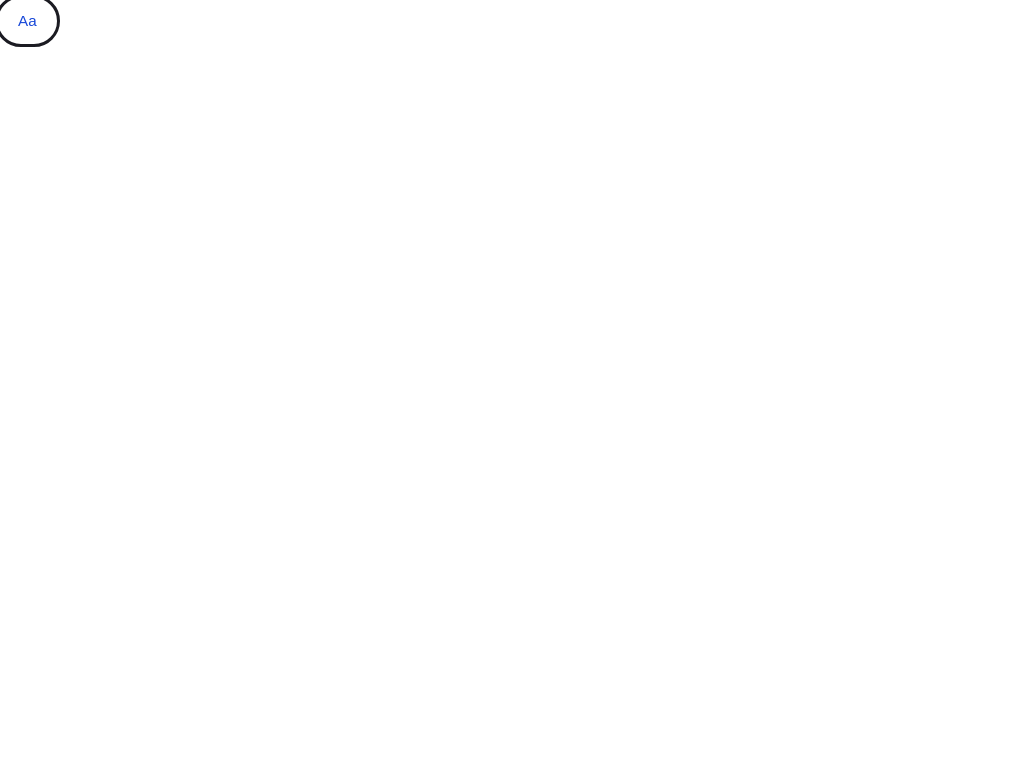
A11yWidget › opens with the keyboard, toggles settings with aria-pressed, persists and announces
The image size is (1024, 768).
Step 1. Press Enter
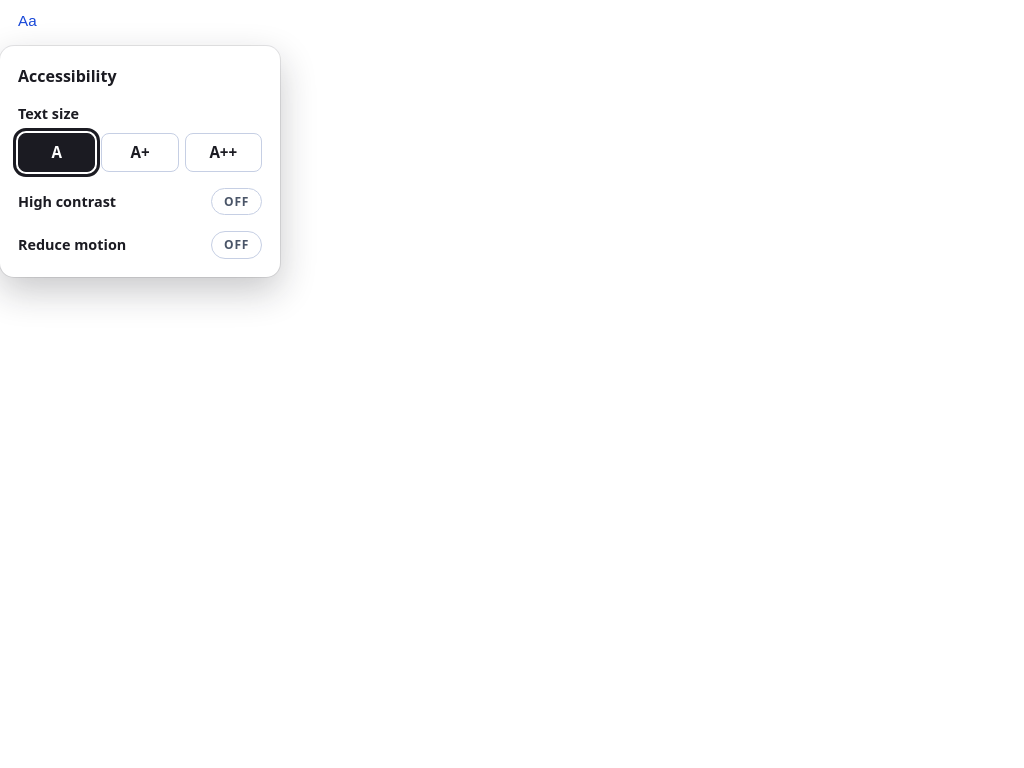
Now the text "Accessibility" is shown, box [18,65,116,87]
Step 2. Click the button "A++" → (223, 152), box [185,133,262,172]
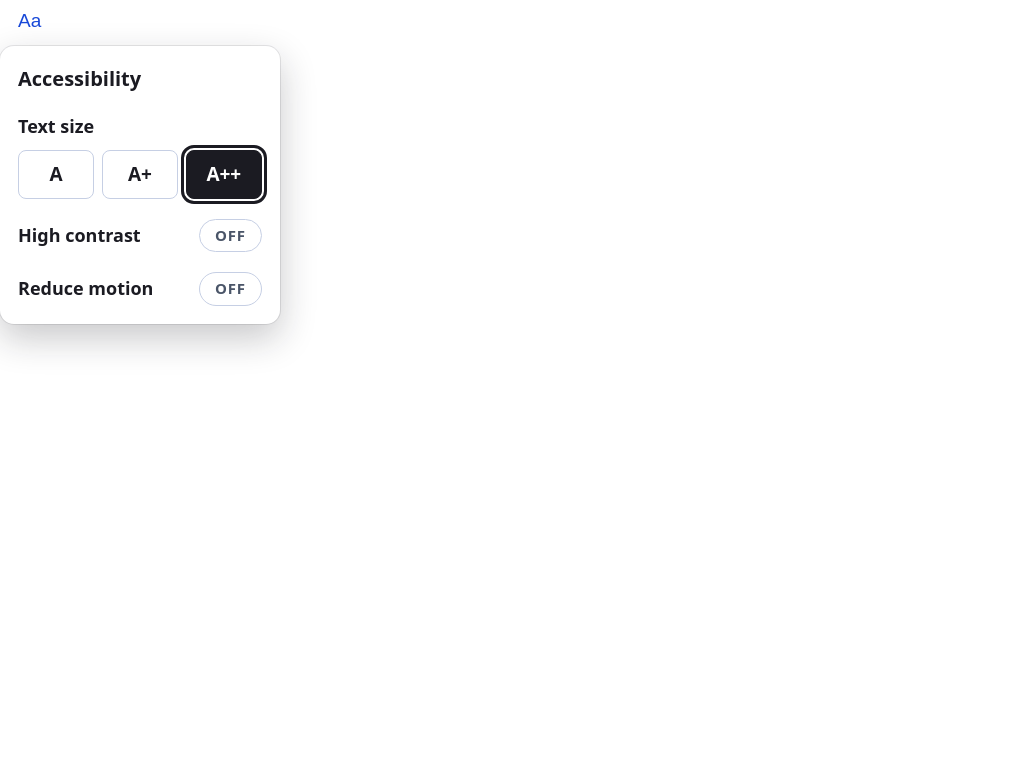
Now the button "A++" is pressed, box [186,150,262,199]
Step 3. Click the button "High contrast Off" → (140, 236), box [18,219,262,252]
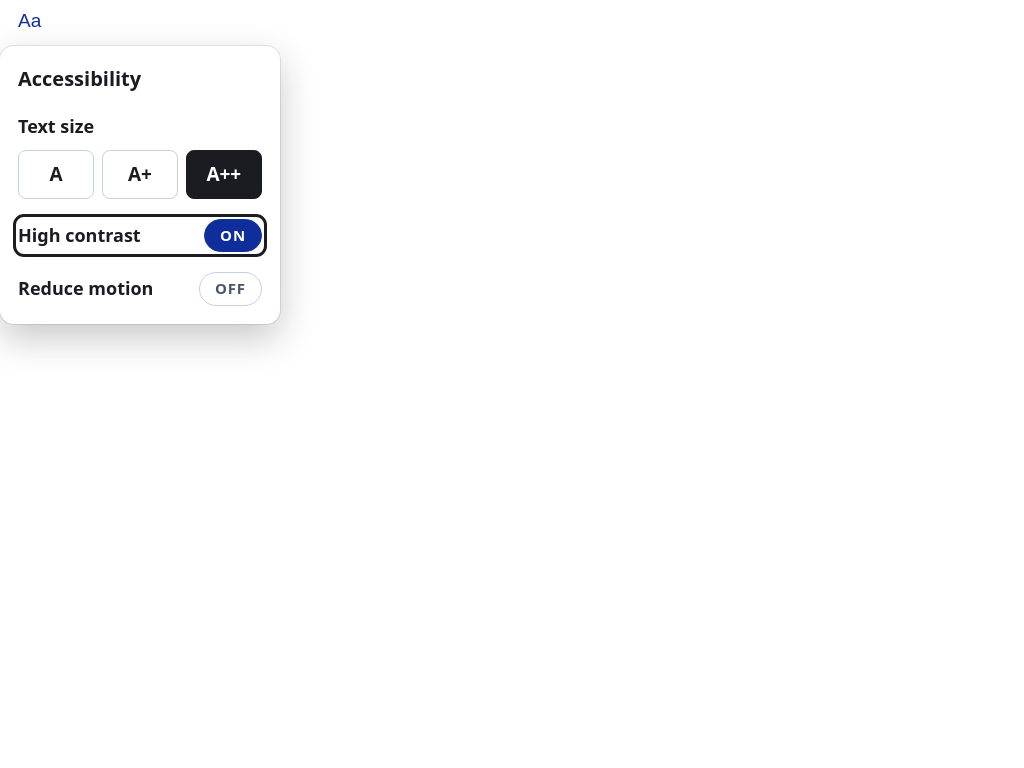
Now the button "High contrast On" is pressed, box [18,219,262,252]
Step 4. Click the button "Reduce motion Off" → (140, 289), box [18,272,262,306]
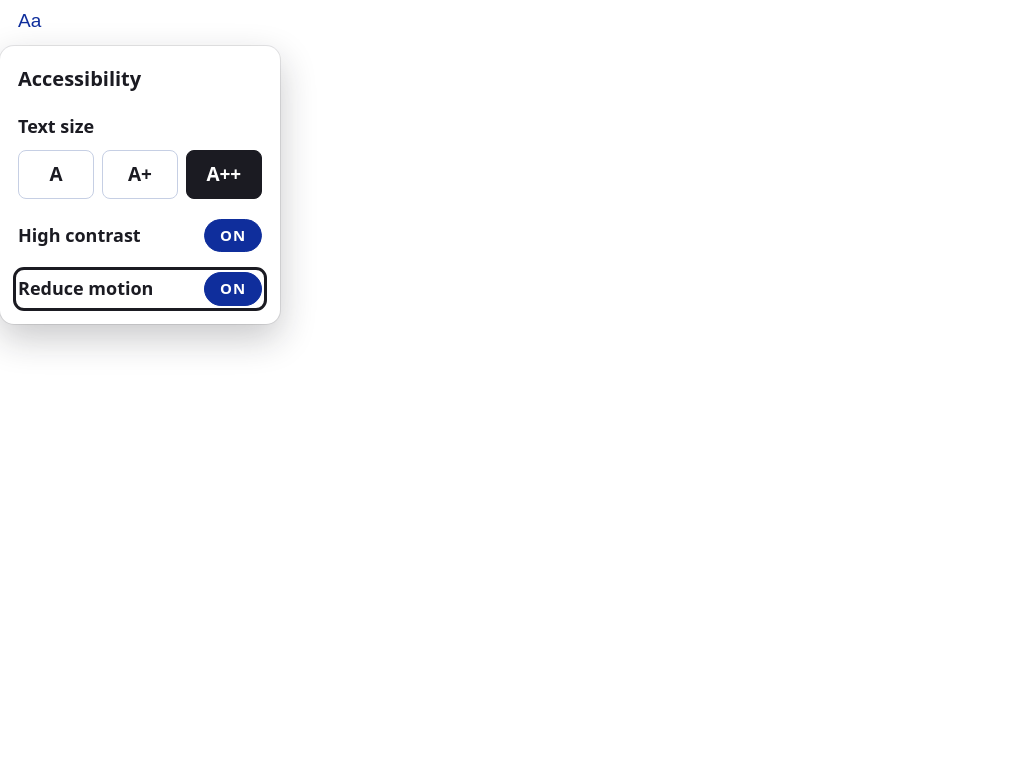
Now the button "Reduce motion On" is pressed, box [18,272,262,306]
Step 5. Press Escape
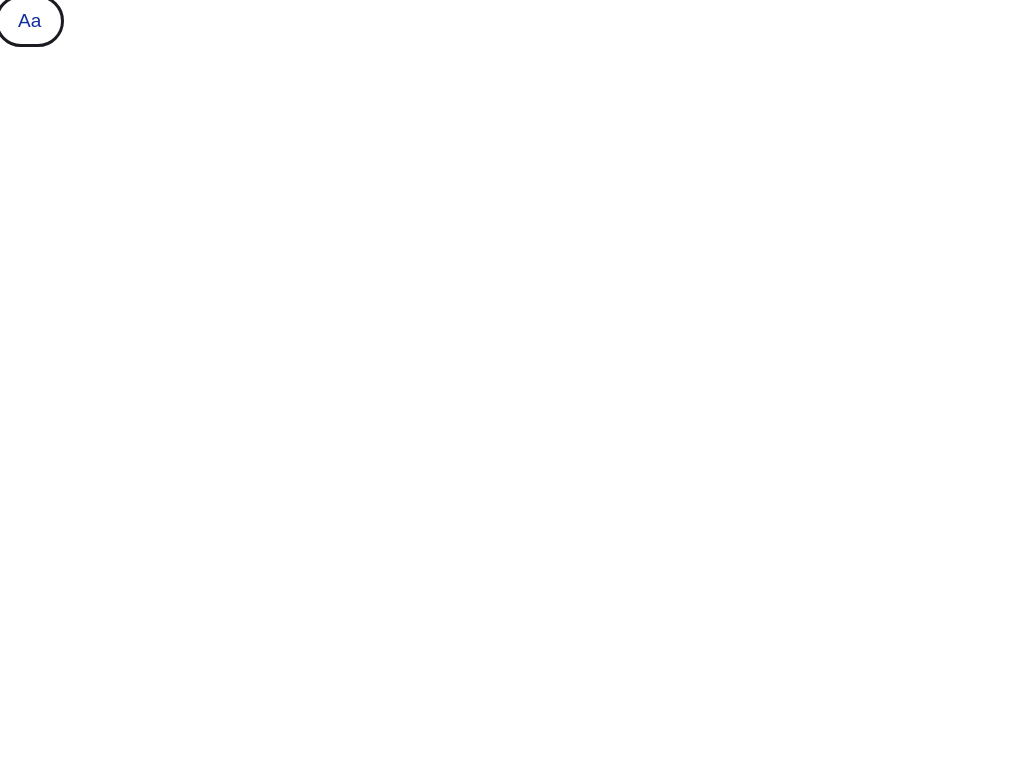
Now the text "Accessibility" is gone
